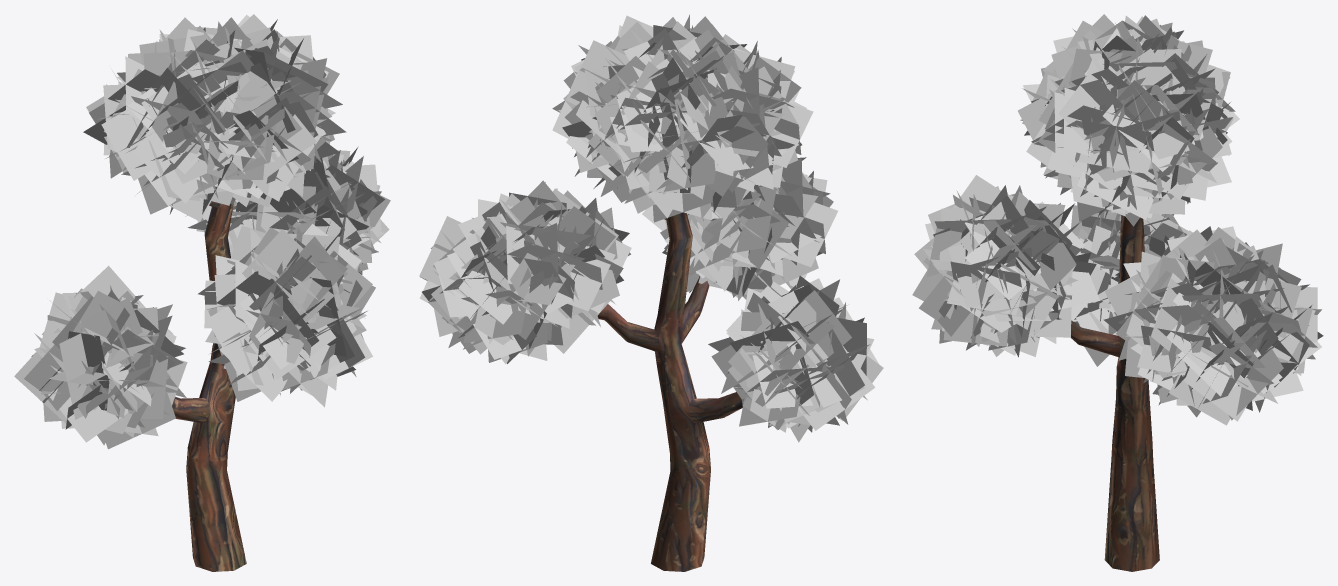
Rendered from MusicBigTree.fbx.
3 views of the same model, side by side, from view 1: azimuth 30°, elevation 25°; view 2: azimuth 150°, elevation 25°; view 3: azimuth 270°, elevation 25° (orthographic).
Visible parts, largest first — view 1: Icosphere.003; view 2: Icosphere.003; view 3: Icosphere.003.
Boxes of the visible parts, bbox=[...] form: Icosphere.003: bbox=[14, 14, 390, 571]; Icosphere.003: bbox=[419, 14, 883, 571]; Icosphere.003: bbox=[912, 14, 1323, 571].
Size of the model in its own units: 698 by 884 by 624.
